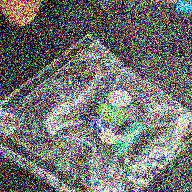러키펜정: (107, 90, 133, 109)
씨엠지세파클러캡슐: (86, 115, 118, 146)
에르도캡슐: (111, 121, 145, 155)
휴티렌정: (95, 104, 126, 125)
